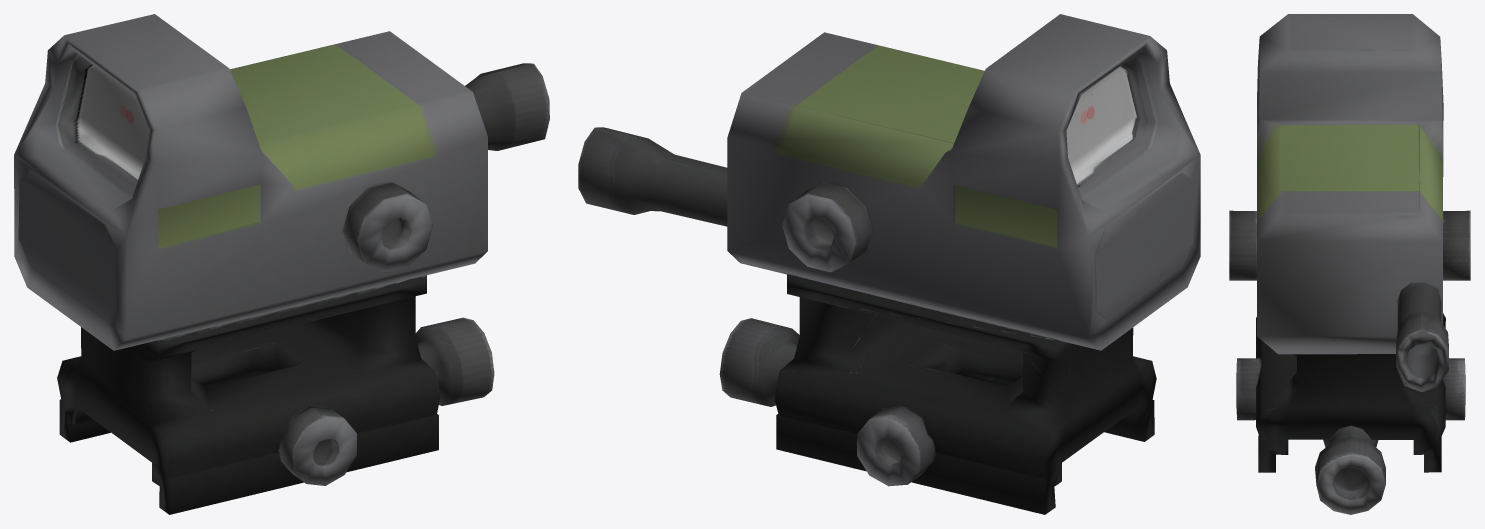
Rendered from sight_mini_dot.glb.
3 renders of one model, left to right at view 1: azimuth 30°, elevation 25°; view 2: azimuth 150°, elevation 25°; view 3: azimuth 270°, elevation 25°, orthographic. The views are drawn at different scales.
Bounding box in the file's own units: 0.9541 × 0.7554 × 0.4712.
Materials: 1 (1 with a texture image).
